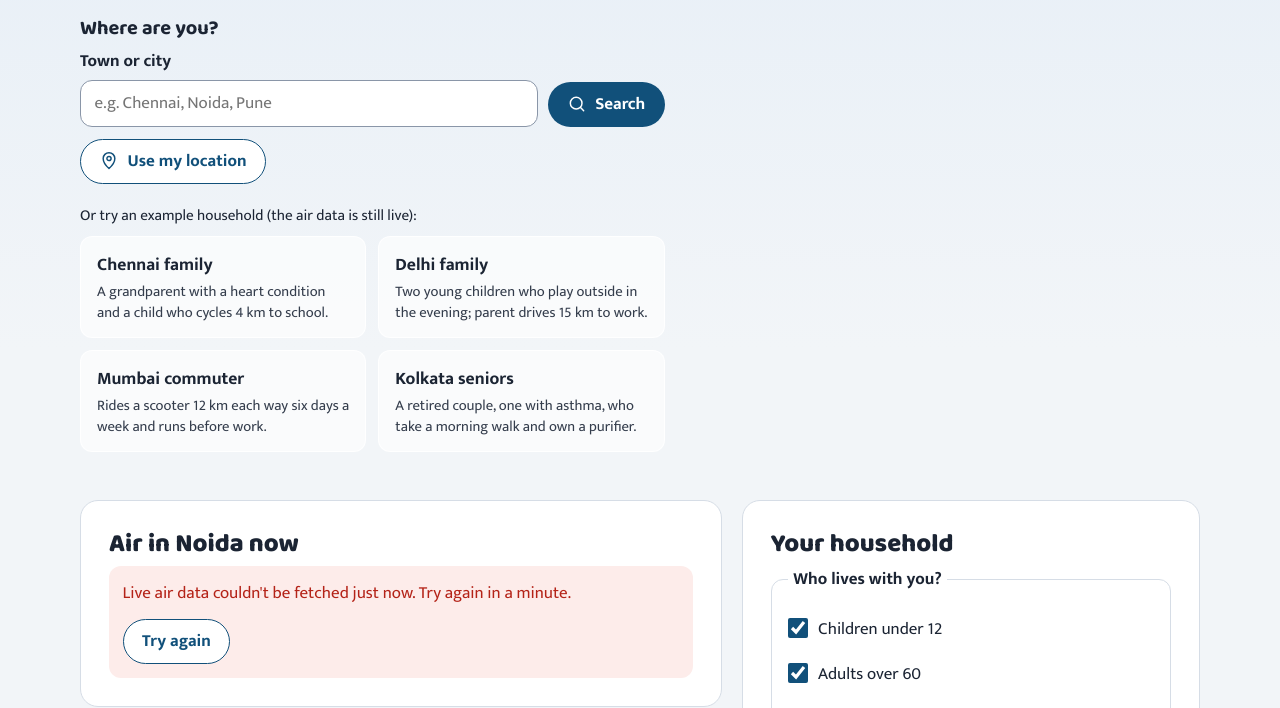
AssistantApp › offers a retry when live air can't be fetched
(page scrolled)
Click the button "Mumbai commuter" at point(223, 401), box [80, 350, 366, 452]
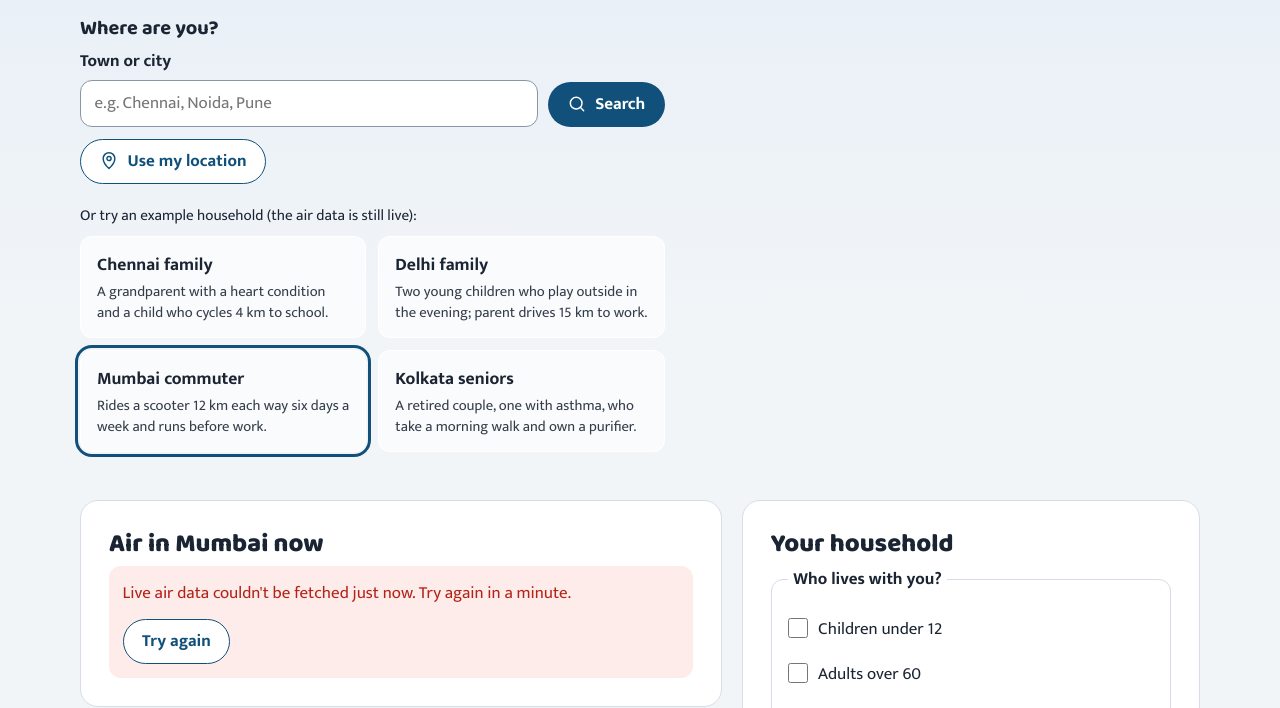
Check: the text "Live air data couldn't be fetched just now" is shown, box [123, 579, 571, 607]
Click the button "Try again" at point(176, 642), box [123, 619, 230, 664]
(page scrolled)
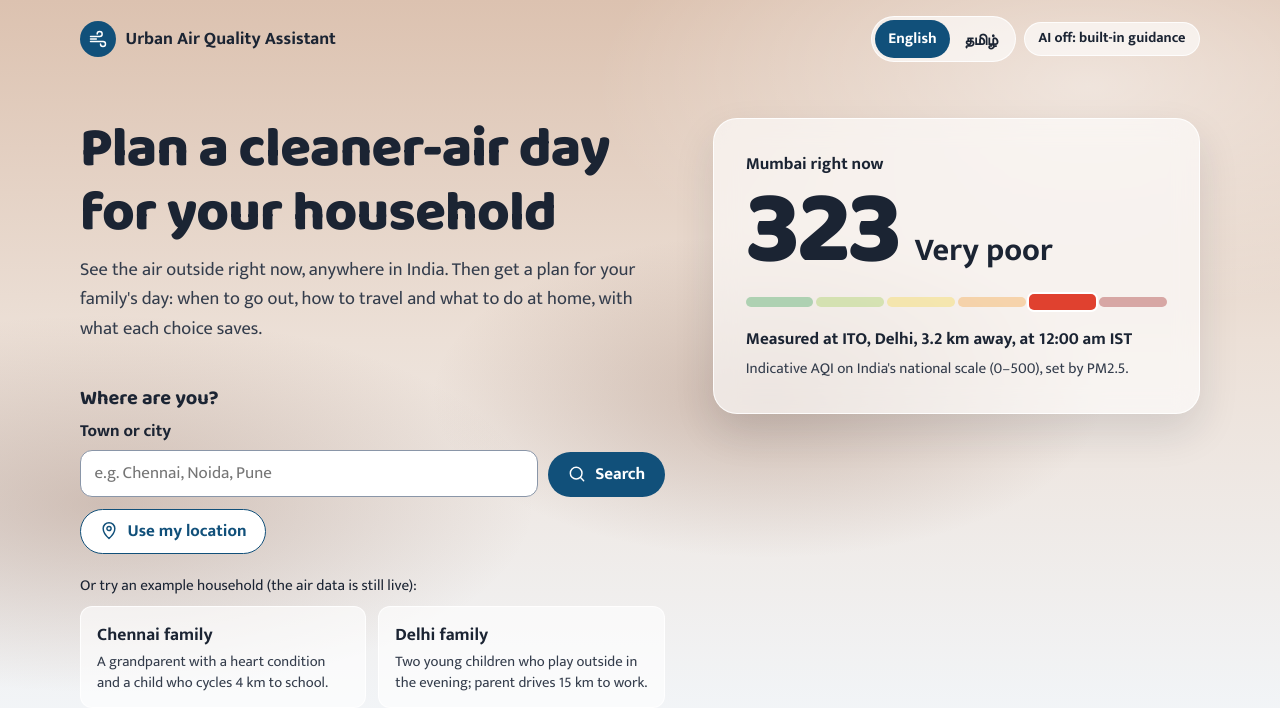
Check: the text "323" is shown, box [746, 182, 898, 281]
